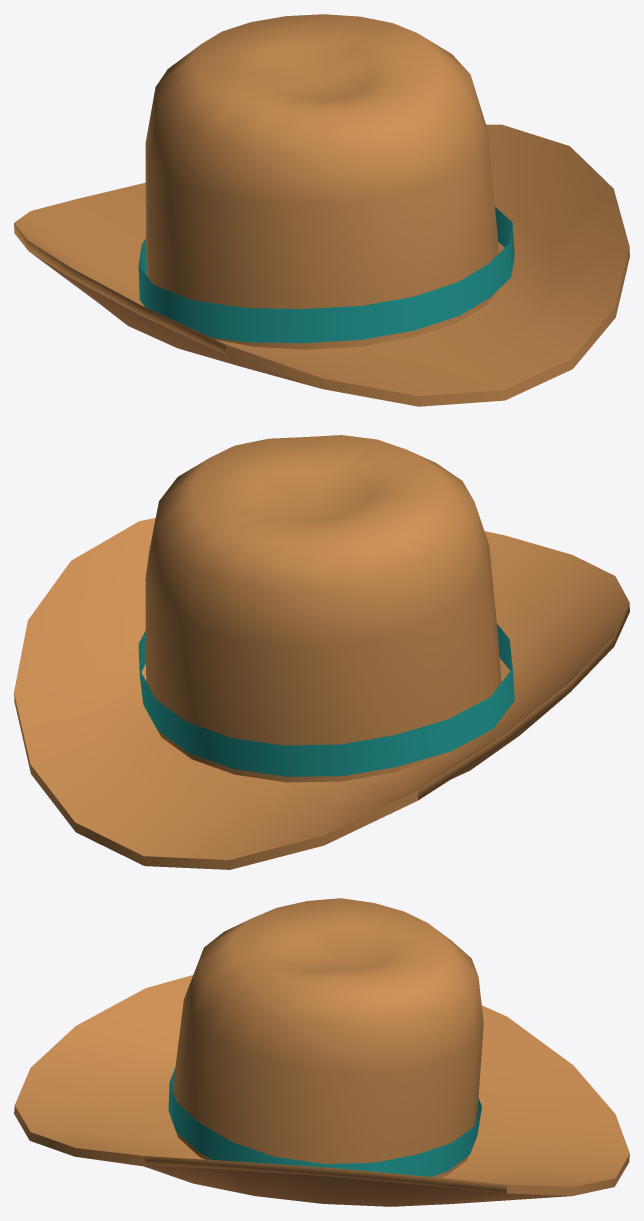
The model's file is SombreroVaquero.fbx.
3 renders of one model, top to bottom at view 1: azimuth 30°, elevation 25°; view 2: azimuth 150°, elevation 25°; view 3: azimuth 270°, elevation 25°, orthographic. The views are drawn at different scales.
Visible parts, largest first — view 1: SombreroVaquero; view 2: SombreroVaquero; view 3: SombreroVaquero.
Boxes of the visible parts, left/top/right/bottom form: SombreroVaquero: left=14, top=14, right=629, bottom=406; SombreroVaquero: left=14, top=435, right=629, bottom=869; SombreroVaquero: left=14, top=898, right=629, bottom=1206.
Size of the model in its own units: 2.68 by 1.33 by 3.36.
Materials: 1 (1 with a texture image).
